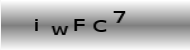7: (111, 9, 126, 24)
C: (92, 18, 107, 34)
F: (73, 17, 86, 32)
i: (32, 18, 40, 32)
w: (49, 24, 69, 36)
